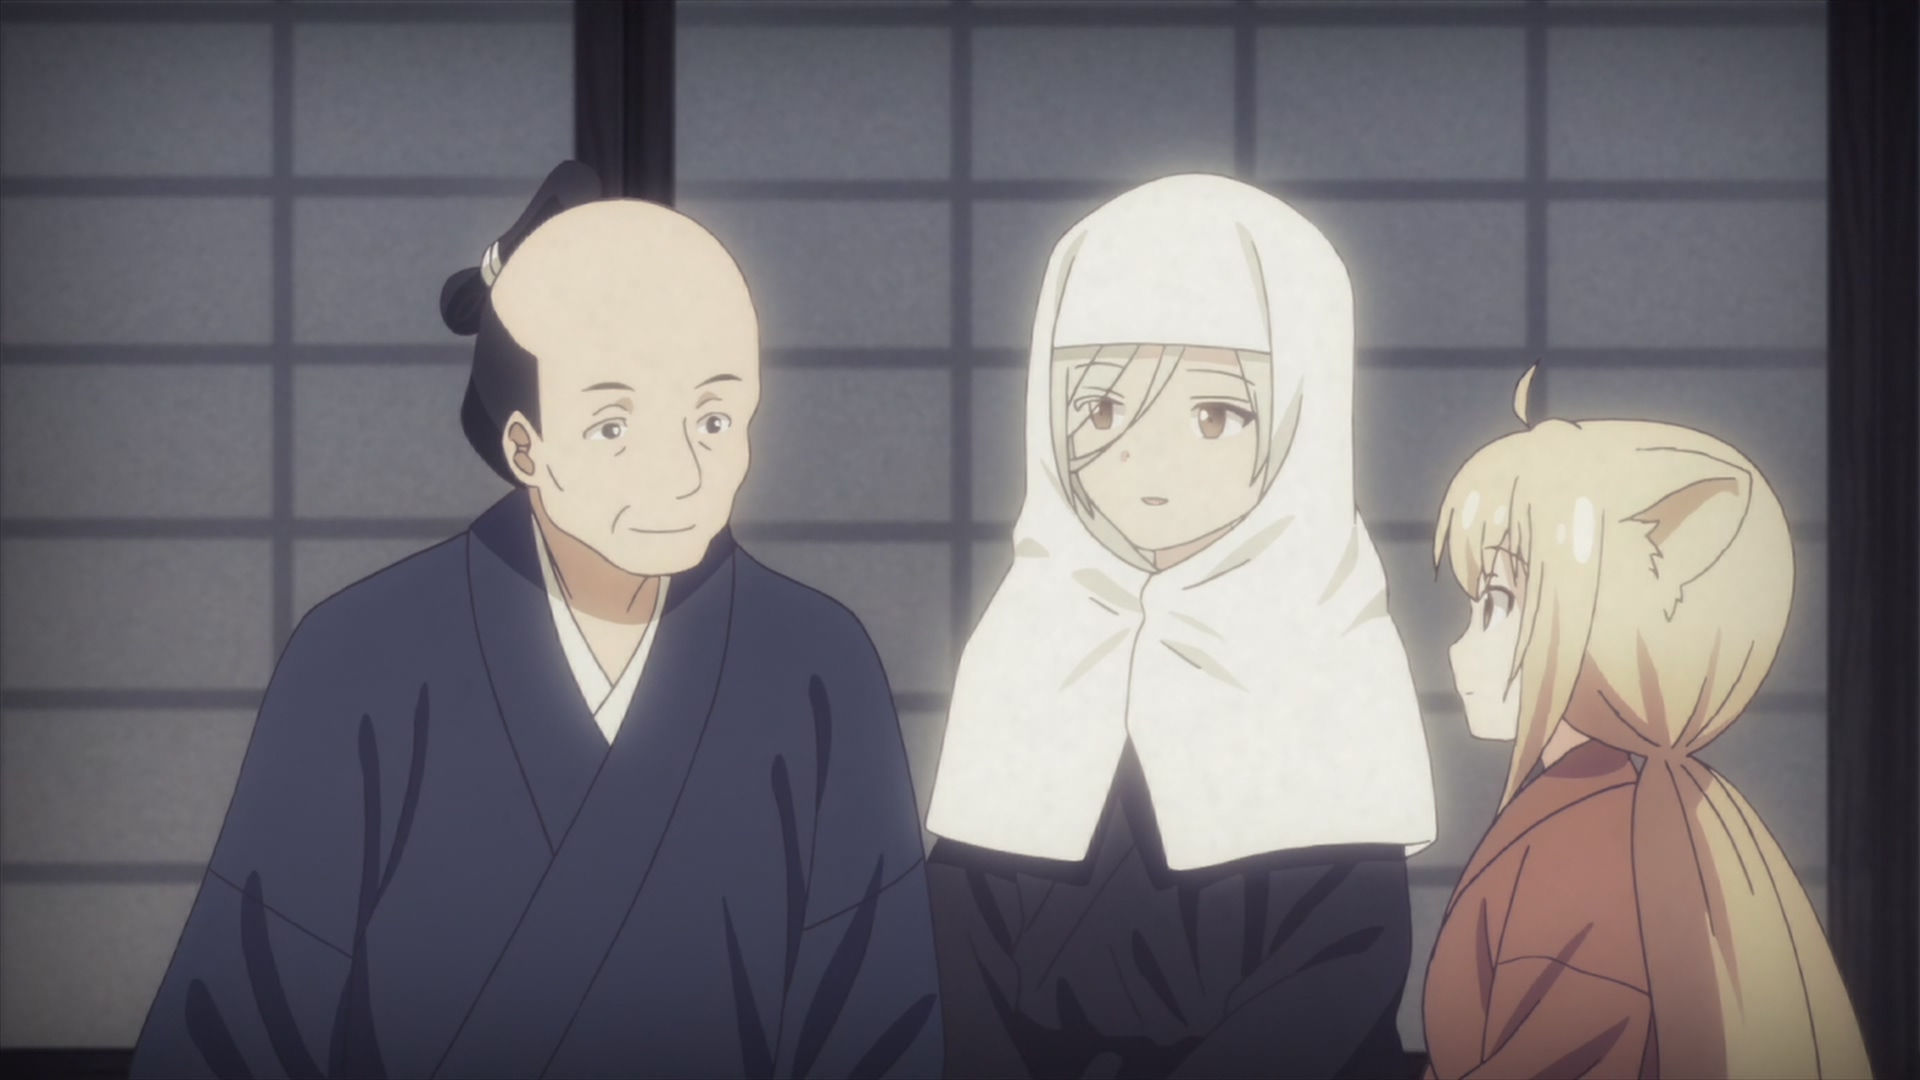八百比丘尼: (928, 171, 1436, 1080)
其他: (128, 161, 948, 1080)
柚: (1422, 363, 1873, 1080)
